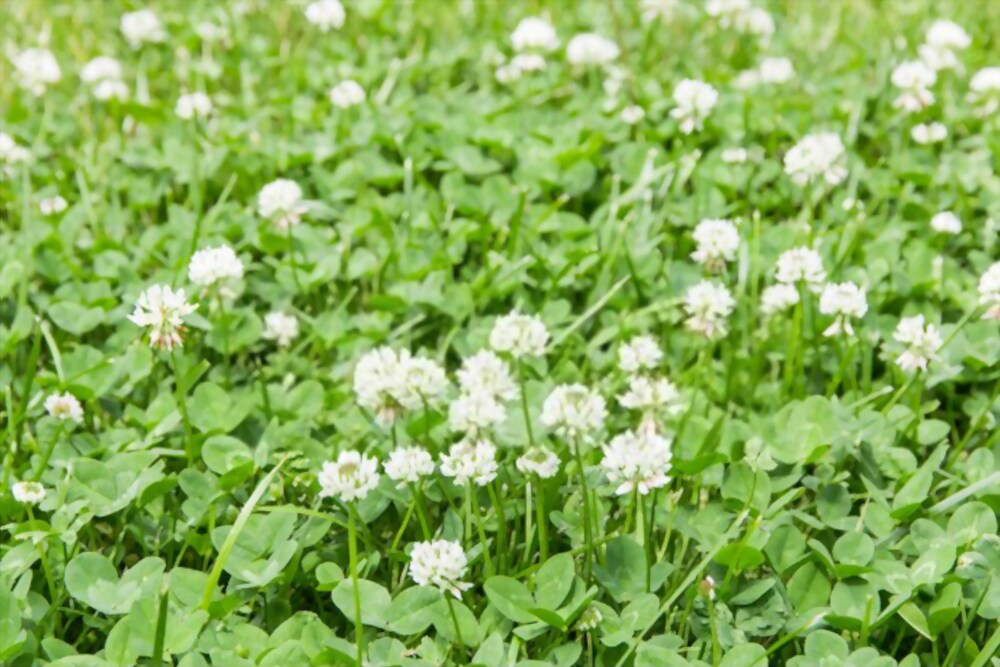clover: (17, 13, 991, 659)
